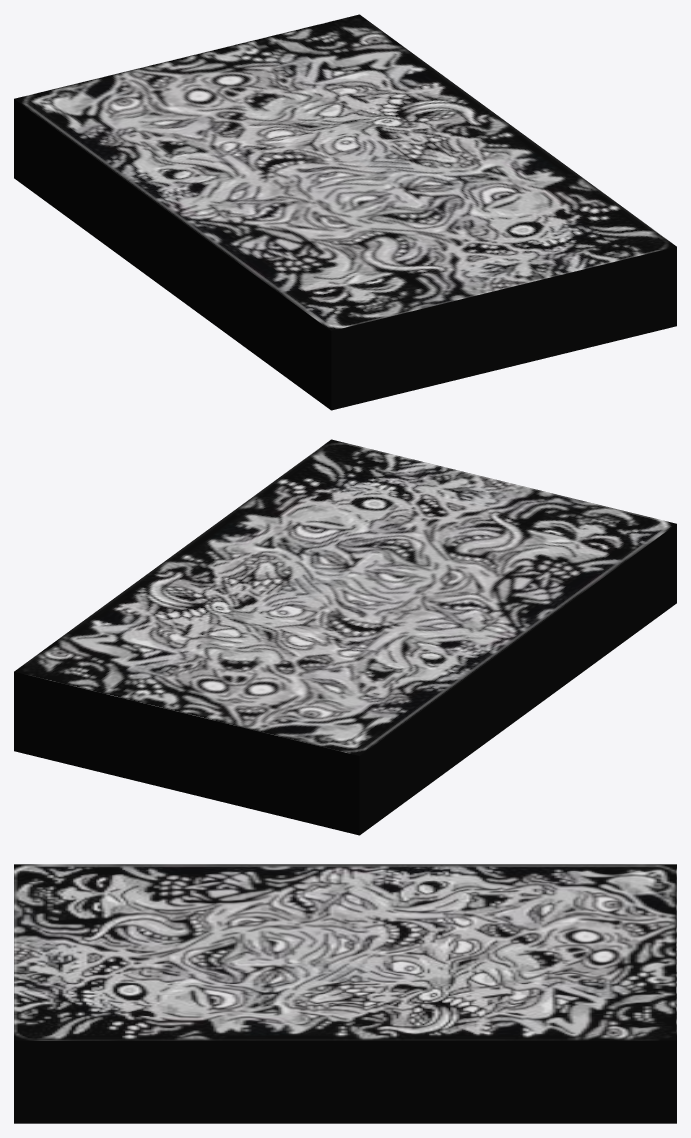
File: tarrot_cards.glb
3 views of the same model, one above another, from view 1: azimuth 30°, elevation 25°; view 2: azimuth 150°, elevation 25°; view 3: azimuth 270°, elevation 25° (orthographic). The views are drawn at different scales.
Visible parts, largest first — view 1: deck; view 2: deck; view 3: deck.
Part boxes in pixels (<box>): deck: <box>14,14,676,410</box>; deck: <box>14,439,676,835</box>; deck: <box>14,864,676,1123</box>.
Bounding box in the file's own units: 0.0836 × 0.0184 × 0.133.
Materials: 27 (26 with a texture image).
